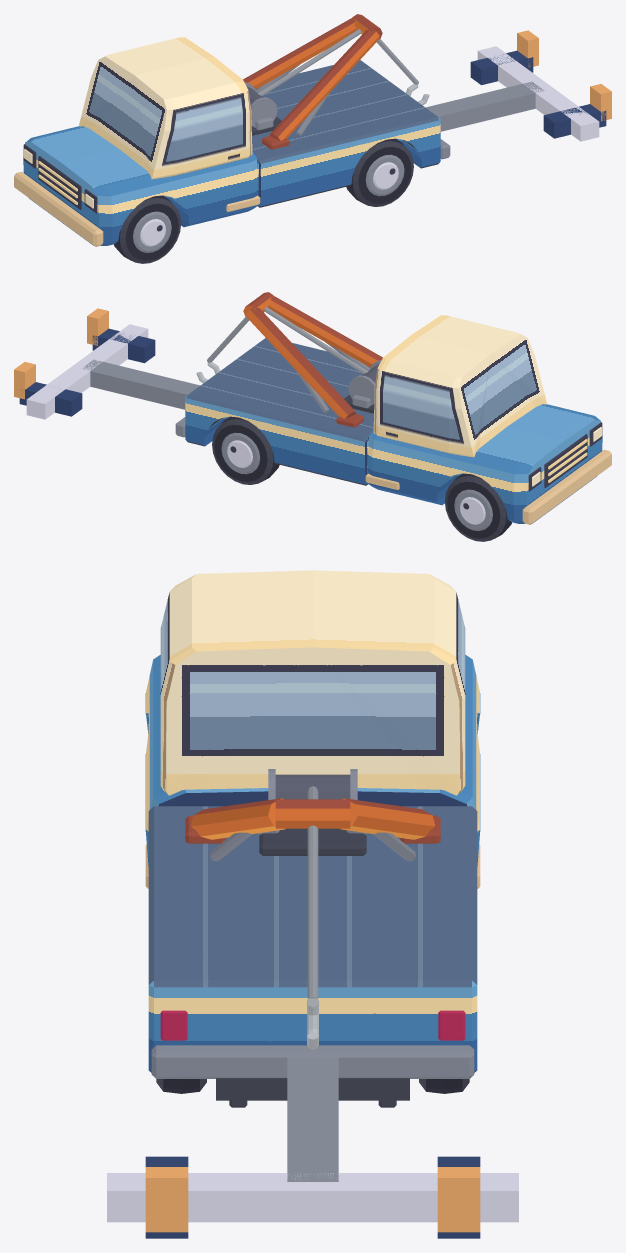
The model's file is tow-truck-v2.glb.
3 renders of one model, top to bottom at view 1: azimuth 30°, elevation 25°; view 2: azimuth 150°, elevation 25°; view 3: azimuth 270°, elevation 25°, orthographic. The views are drawn at different scales.
Parts seen in each view (by area): view 1: Body_static, Tow_Axle_Cradle, Wheel_RL_tire_hub, Wheel_FL_tire_hub, Tow_Telescoping_Steel; view 2: Body_static, Tow_Axle_Cradle, Wheel_RR_tire_hub, Wheel_FR_tire_hub, Tow_Telescoping_Steel; view 3: Body_static, Tow_Axle_Cradle, Tow_Telescoping_Steel.
Boxes of the visible parts, left/top/right/bottom form: Body_static: left=14, top=14, right=450, bottom=246; Tow_Axle_Cradle: left=470, top=30, right=611, bottom=141; Wheel_RL_tire_hub: left=346, top=138, right=413, bottom=206; Wheel_FL_tire_hub: left=114, top=195, right=181, bottom=263; Tow_Telescoping_Steel: left=425, top=81, right=544, bottom=131; Body_static: left=175, top=292, right=611, bottom=524; Tow_Axle_Cradle: left=14, top=308, right=155, bottom=419; Wheel_RR_tire_hub: left=212, top=416, right=279, bottom=484; Wheel_FR_tire_hub: left=444, top=473, right=511, bottom=541; Tow_Telescoping_Steel: left=81, top=359, right=200, bottom=409; Body_static: left=145, top=570, right=480, bottom=1107; Tow_Axle_Cradle: left=107, top=1156, right=518, bottom=1238; Tow_Telescoping_Steel: left=287, top=1057, right=338, bottom=1181.
Bounding box in the file's own units: 139 × 40 × 48.
1 material, 1 textured.
